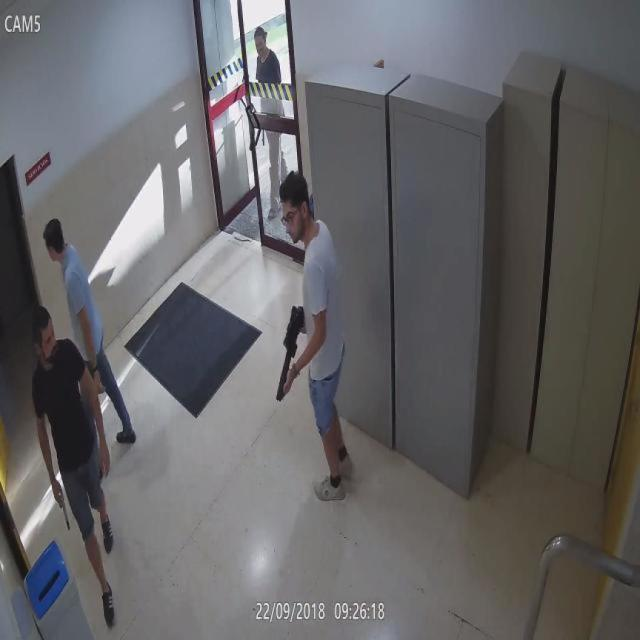pistol: (52, 480, 72, 530)
